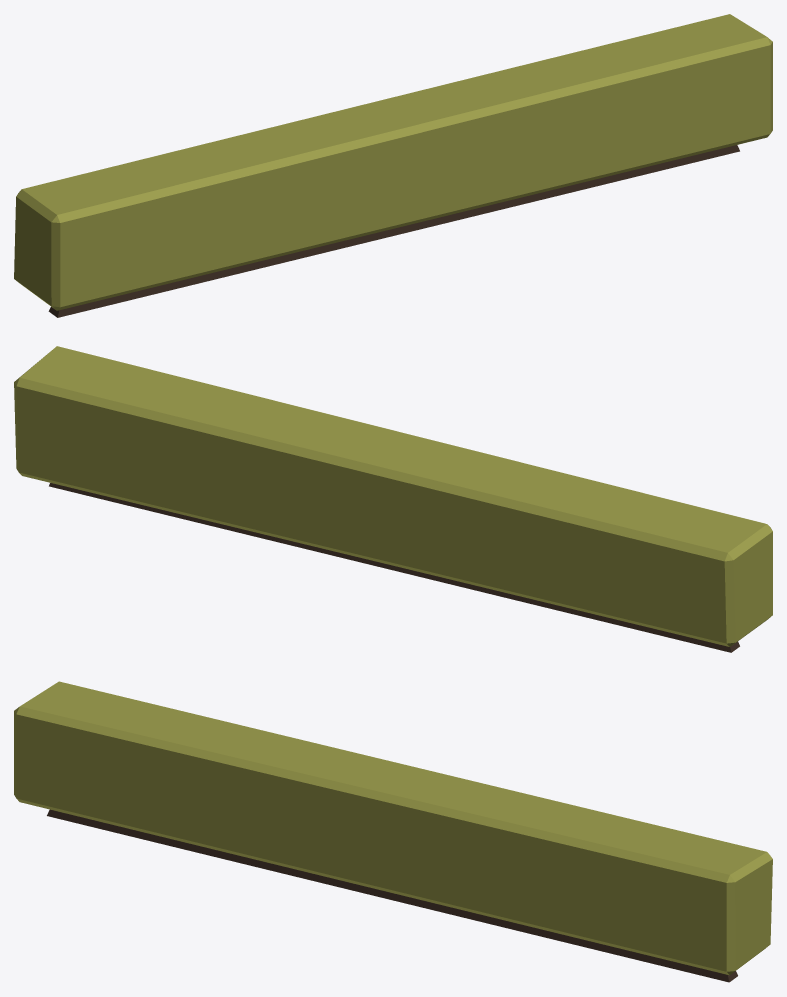
The model's file is Hedge1_c_LP_LOD0.FBX.
The picture shows the model from 3 angles, top to bottom: view 1: azimuth 30°, elevation 25°; view 2: azimuth 150°, elevation 25°; view 3: azimuth 330°, elevation 25°; orthographic projection.
Parts seen in each view (by area): view 1: Hedge1_c_LP_LOD0; view 2: Hedge1_c_LP_LOD0; view 3: Hedge1_c_LP_LOD0.
Boxes of the visible parts, bbox=[...] form: Hedge1_c_LP_LOD0: bbox=[14, 14, 772, 317]; Hedge1_c_LP_LOD0: bbox=[14, 346, 772, 652]; Hedge1_c_LP_LOD0: bbox=[14, 681, 772, 982].
Size of the model in its own units: 11.33 by 1.81 by 1.19.
